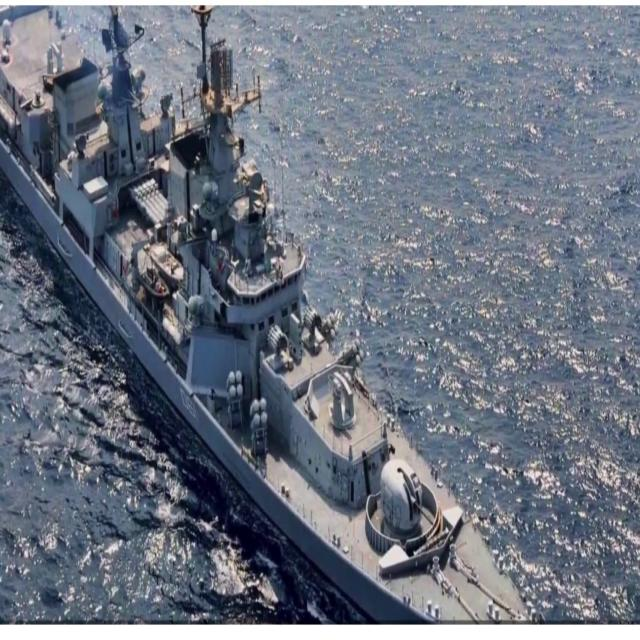OCR: (176, 384, 203, 432)
